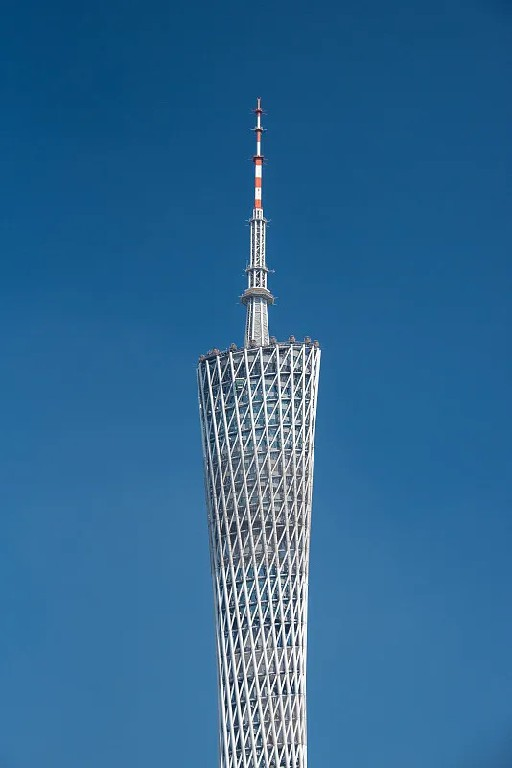Canton: (200, 97, 322, 768)
